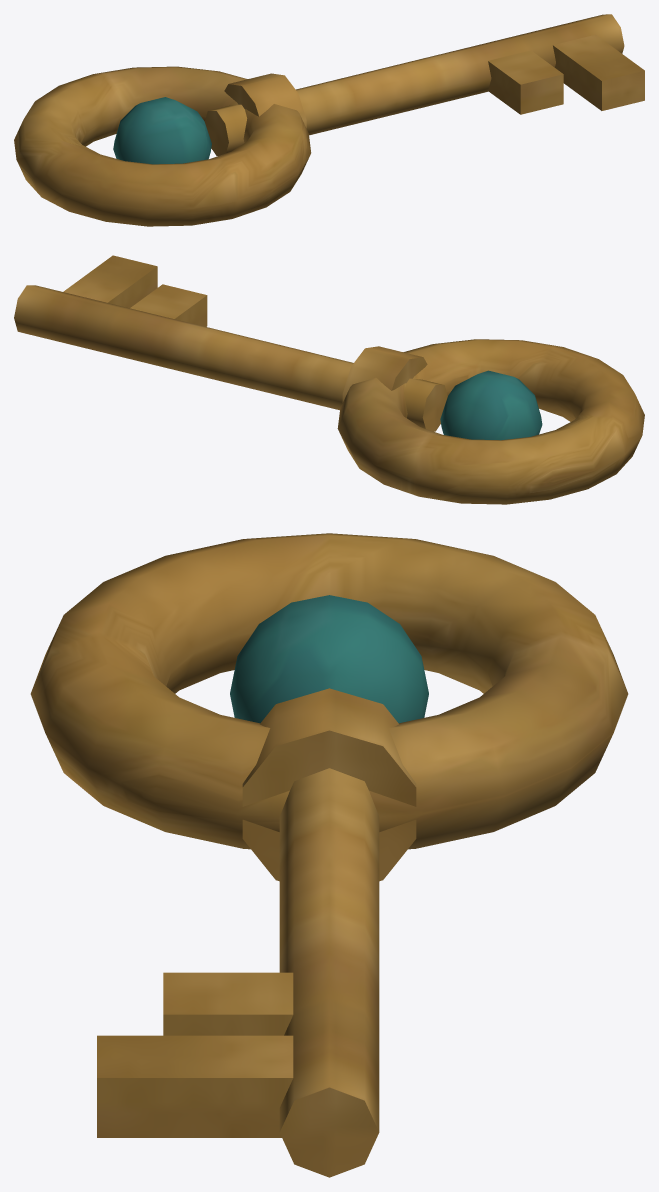
Rendered from door-key.glb.
3 views of the same model, one above another, from view 1: azimuth 30°, elevation 25°; view 2: azimuth 150°, elevation 25°; view 3: azimuth 270°, elevation 25° (orthographic). The views are drawn at different scales.
Visible parts, largest first — view 1: DoorKey_brass, DoorKey_teal; view 2: DoorKey_brass, DoorKey_teal; view 3: DoorKey_brass, DoorKey_teal.
Part boxes in pixels (x1,y1,x2,y2): DoorKey_brass: (14,14,644,226); DoorKey_teal: (113,97,211,164); DoorKey_brass: (14,255,644,504); DoorKey_teal: (440,370,542,440); DoorKey_brass: (30,533,628,1177); DoorKey_teal: (230,595,428,723).
Bounding box in the file's own units: 0.161 × 0.0228 × 0.072.
2 materials, 2 textured.
